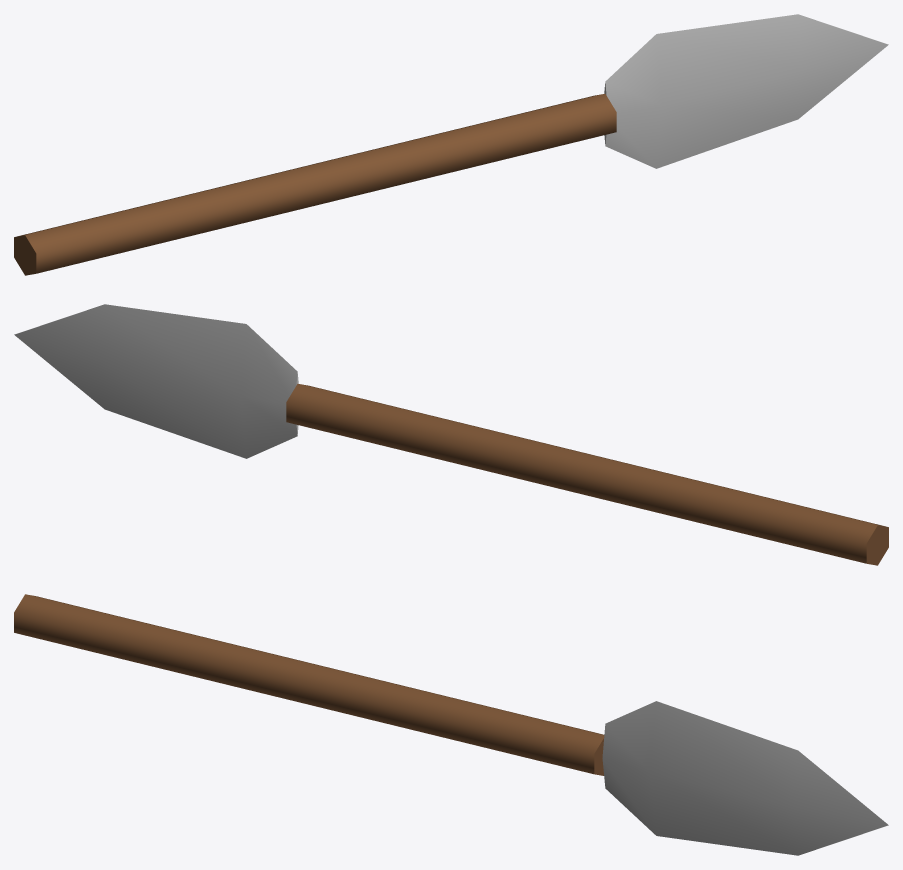
File: ikwa.obj
3 renders of one model, top to bottom at view 1: azimuth 30°, elevation 25°; view 2: azimuth 150°, elevation 25°; view 3: azimuth 330°, elevation 25°, orthographic.
Parts seen in each view (by area): view 1: broad_ikwa_blade, short_shaft; view 2: broad_ikwa_blade, short_shaft; view 3: broad_ikwa_blade, short_shaft.
Boxes of the visible parts, x1,y1,x2,y2 form: broad_ikwa_blade: (604, 14, 888, 168); short_shaft: (14, 94, 616, 275); broad_ikwa_blade: (14, 304, 298, 458); short_shaft: (286, 384, 888, 565); broad_ikwa_blade: (602, 701, 888, 855); short_shaft: (14, 594, 604, 775).
Size of the model in its own units: 0.67 by 0.1 by 0.03.
